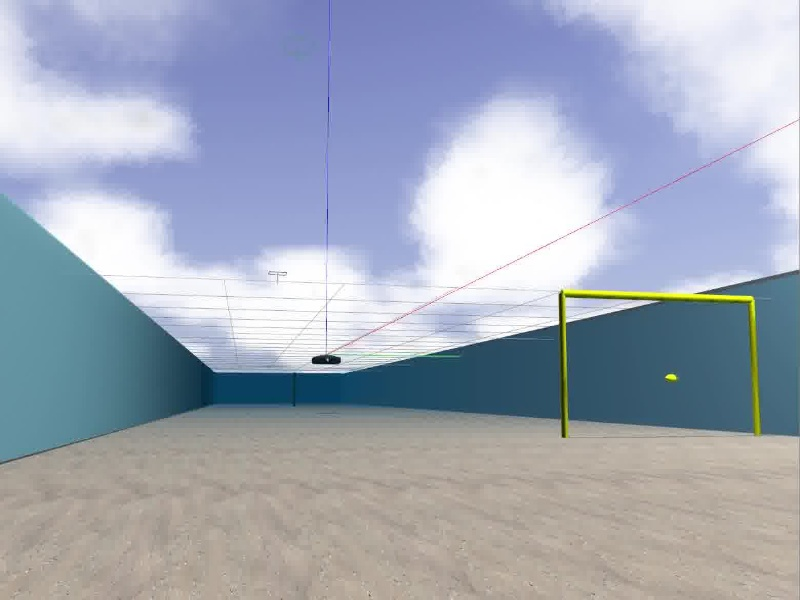gate: (555, 288, 761, 441)
